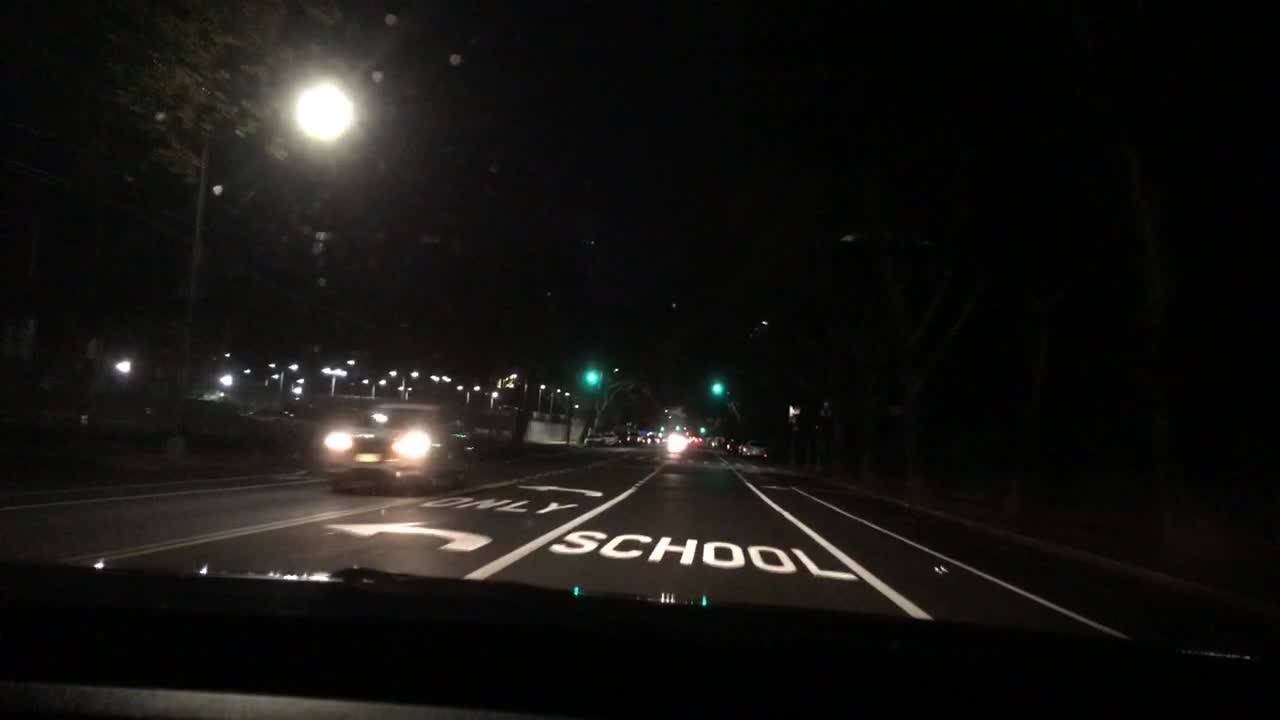car: (316, 395, 474, 495), (583, 431, 620, 447), (738, 440, 768, 459), (666, 434, 689, 453), (621, 433, 642, 446), (643, 433, 658, 446), (688, 436, 702, 449), (723, 440, 736, 453), (701, 436, 714, 448), (658, 434, 668, 445), (713, 438, 723, 449)
traffic light: (582, 369, 600, 386), (707, 382, 724, 394), (699, 428, 708, 435), (673, 423, 683, 429)
